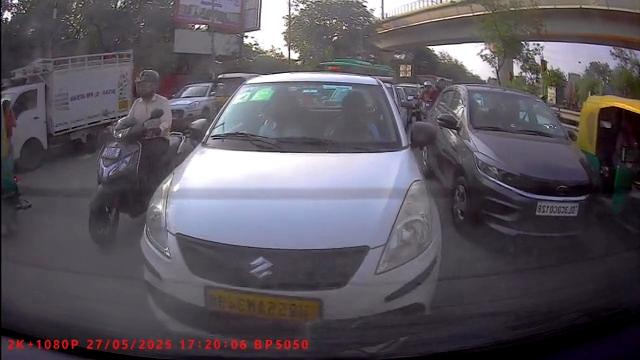motorcycle_with_helmet: (85, 68, 182, 248)
